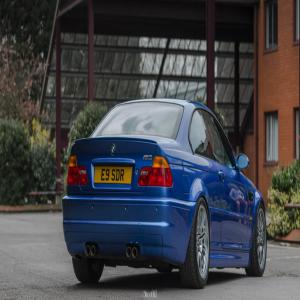Vehicle-registration-plate: (93, 157, 139, 207)
